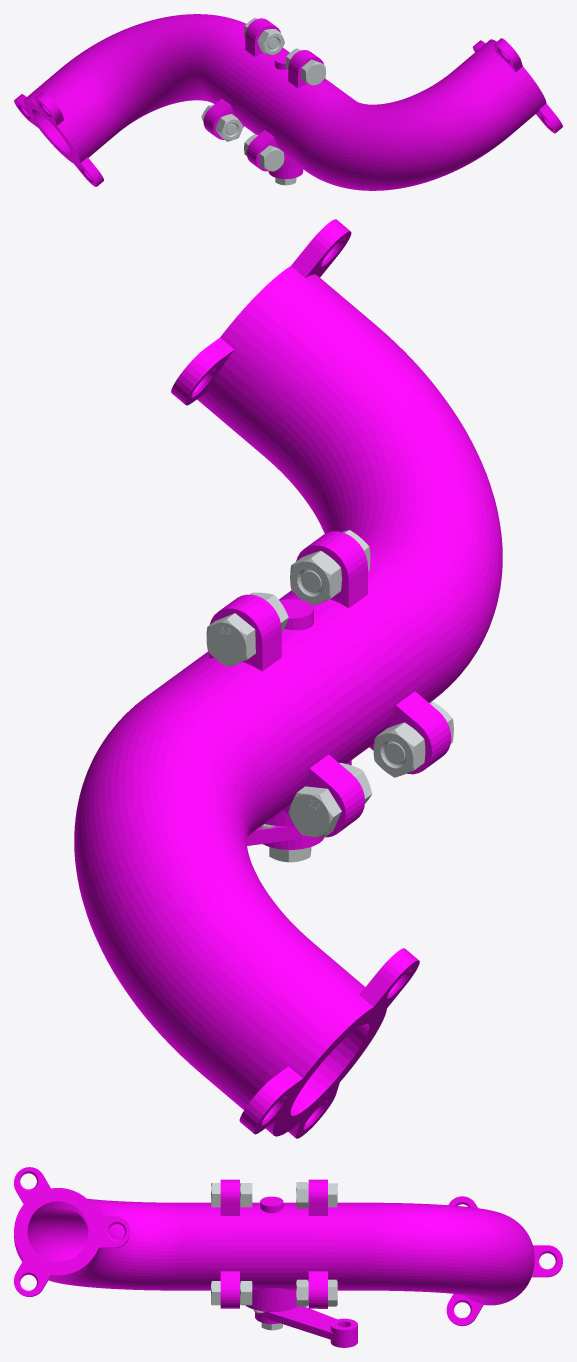
The model's file is Butterfly_assembly.glb.
The picture shows the model from 3 angles, top to bottom: view 1: azimuth 30°, elevation 25°; view 2: azimuth 150°, elevation 25°; view 3: azimuth 270°, elevation 25°; orthographic projection. The views are drawn at different scales.
Visible parts, largest first — view 1: Node1; view 2: Node1; view 3: Node1.
Boxes of the visible parts, box(x1,y1,x2,y2) form: Node1: box(14, 14, 562, 190); Node1: box(74, 219, 502, 1138); Node1: box(14, 1167, 562, 1347).
Bounding box in the file's own units: 295 × 231 × 446.
